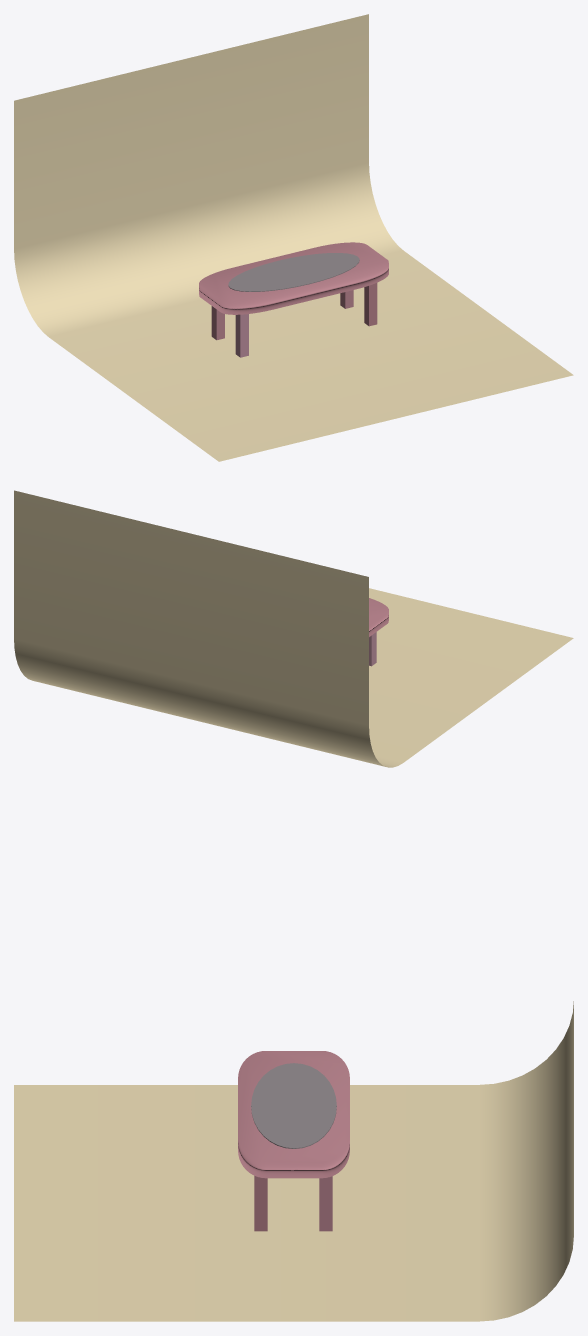
File: table.glb
3 views of the same model, one above another, from view 1: azimuth 30°, elevation 25°; view 2: azimuth 150°, elevation 25°; view 3: azimuth 270°, elevation 25° (orthographic). The views are drawn at different scales.
Visible parts, largest first — view 1: Plane, Cube, Cylinder, Cube.004, Cube.001; view 2: Plane, Cube; view 3: Plane, Cube, Cylinder, Cube.001, Cube.002.
Boxes of the visible parts, x1,y1,x2,y2 form: Plane: (14,14,573,461); Cube: (199,242,388,314); Cylinder: (228,253,359,291); Cube.004: (235,314,248,357); Cube.001: (364,283,377,326); Plane: (14,490,573,767); Cube: (369,598,388,636); Plane: (14,1001,573,1321); Cube: (238,1051,349,1178); Cylinder: (251,1063,336,1148); Cube.001: (254,1176,267,1231); Cube.002: (319,1176,332,1231).
Size of the model in its own units: 10 by 5.68 by 10.
